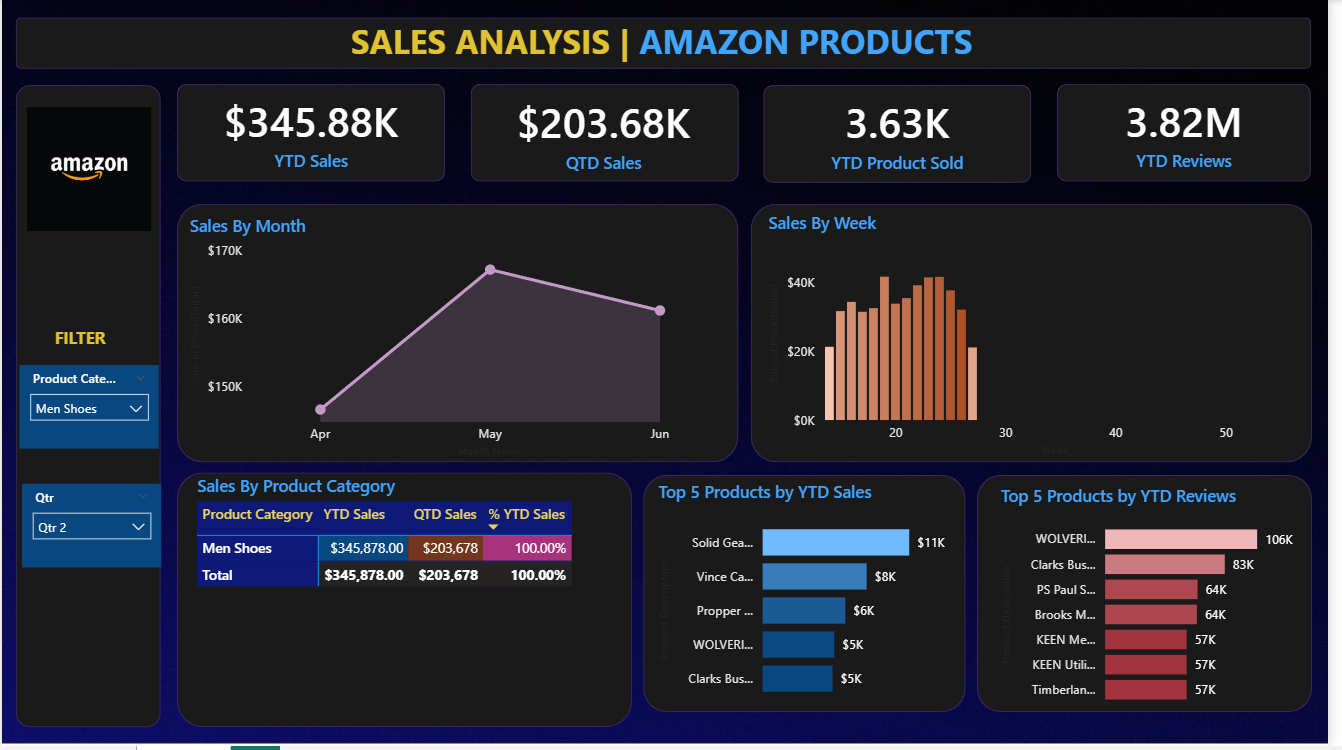

This screenshot's page, from the dashboard's own definition file:
{"tool":"powerbi","page":{"name":"Page 1","canvas":[1280,720],"ordinal":0},"visuals":[{"type":"shape","box":[451.8,81,259.3,94.7],"z":0,"group":"g1"},{"type":"shape","box":[13.7,82.3,140,620.2],"z":0},{"type":"shape","box":[13.7,16.5,1250.1,49.4],"z":1000},{"type":"textbox","box":[332.1,13.7,627.1,52.1],"z":2000},{"type":"shape","box":[168.8,196.2,542,249.7],"z":3000},{"type":"shape","box":[168.8,81,259.3,94.7],"z":4000,"group":"g1"},{"type":"areaChart","title":"Sales By Month","fields":{"Category":["Date Table.Month Name"],"Y":["Sum(Amazon_Data.Price(Dollar))"]},"box":[175.6,205.8,529.7,240.1],"z":4000},{"type":"card","fields":{"Values":["Amazon_Data.YTD Sales"]},"box":[168.8,79.6,259.3,94.7],"z":5000,"group":"g1"},{"type":"shape","box":[723.2,196.2,542,249.7],"z":5000},{"type":"card","fields":{"Values":["Amazon_Data.QTD Sales"]},"box":[451.5,81,259.3,94.7],"z":6000,"group":"g1"},{"type":"columnChart","title":"Sales By Week","fields":{"Category":["Date Table.Week"],"Y":["Sum(Amazon_Data.Price(Dollar))"]},"box":[734.1,204.5,511.8,241.5],"z":6000},{"type":"shape","box":[734.8,82.3,259.3,94.7],"z":7000,"group":"g1"},{"type":"shape","box":[168.8,455.6,439.1,245.6],"z":7000},{"type":"shape","box":[1018.2,81,245.6,94.7],"z":8000,"group":"g1"},{"type":"pivotTable","title":"Sales By Product Category","fields":{"Rows":["Amazon_Data.Product Category"],"Values":["Amazon_Data.YTD Sales1","Amazon_Data.QTD Sales","Amazon_Data.YTD Sales"]},"box":[183.9,456.9,444.6,244.3],"z":8000},{"type":"card","fields":{"Values":["Amazon_Data.YTD Product Sold"]},"box":[734.2,81,259.3,94.7],"z":8001,"group":"g1"},{"type":"card","fields":{"Values":["Amazon_Data.YTD Reviews"]},"box":[1018.2,79.6,245.6,94.7],"z":8002,"group":"g1"},{"type":"group","id":"g1","title":"Group 1","box":[168.8,79.6,1095,97.4],"z":9000},{"type":"shape","box":[618.9,458.3,311.5,229.2],"z":10000},{"type":"shape","box":[941.3,458.3,323.8,229.2],"z":11000},{"type":"barChart","title":"Top 5 Products by YTD Sales","fields":{"Category":["Amazon_Data.Product Description"],"Y":["Amazon_Data.YTD Sales"]},"box":[628.5,463.8,301.9,223.7],"z":12000},{"type":"barChart","title":"Top 5 Products by YTD Reviews","fields":{"Y":["Amazon_Data.YTD Reviews"],"Category":["Amazon_Data.Product Description"]},"box":[959.2,466.6,301.9,223.7],"z":13000},{"type":"slicer","fields":{"Values":["Amazon_Data.Product Category"]},"box":[16.5,352.7,134.5,81],"z":14000},{"type":"slicer","fields":{"Values":["Date Table.Qtr"]},"box":[19.2,466.6,134.5,81],"z":14001},{"type":"image","box":[16.5,97.4,134.5,130.4],"z":14002},{"type":"textbox","box":[45.3,310.1,75.5,32.9],"z":14003}]}

Visuals, with their boxes in screenshot pixels (x1, y1, x2, y2), scaled from the page's 1280x720 canvas onto the 1342x750 screenshot:
shape: pyautogui.locateOnScreen(474, 84, 746, 183)
shape: pyautogui.locateOnScreen(14, 86, 161, 732)
shape: pyautogui.locateOnScreen(14, 17, 1325, 69)
textbox: pyautogui.locateOnScreen(348, 14, 1006, 69)
shape: pyautogui.locateOnScreen(177, 204, 745, 464)
shape: pyautogui.locateOnScreen(177, 84, 449, 183)
"Sales By Month" areaChart: pyautogui.locateOnScreen(184, 214, 739, 464)
card - Amazon_Data.YTD Sales: pyautogui.locateOnScreen(177, 83, 449, 182)
shape: pyautogui.locateOnScreen(758, 204, 1326, 464)
card - Amazon_Data.QTD Sales: pyautogui.locateOnScreen(473, 84, 745, 183)
"Sales By Week" columnChart: pyautogui.locateOnScreen(770, 213, 1306, 465)
shape: pyautogui.locateOnScreen(770, 86, 1042, 184)
shape: pyautogui.locateOnScreen(177, 475, 637, 730)
shape: pyautogui.locateOnScreen(1068, 84, 1325, 183)
"Sales By Product Category" pivotTable: pyautogui.locateOnScreen(193, 476, 659, 730)
card - Amazon_Data.YTD Product Sold: pyautogui.locateOnScreen(770, 84, 1042, 183)
card - Amazon_Data.YTD Reviews: pyautogui.locateOnScreen(1068, 83, 1325, 182)
"Group 1" group: pyautogui.locateOnScreen(177, 83, 1325, 184)
shape: pyautogui.locateOnScreen(649, 477, 975, 716)
shape: pyautogui.locateOnScreen(987, 477, 1326, 716)
"Top 5 Products by YTD Sales" barChart: pyautogui.locateOnScreen(659, 483, 975, 716)
"Top 5 Products by YTD Reviews" barChart: pyautogui.locateOnScreen(1006, 486, 1322, 719)
slicer - Amazon_Data.Product Category: pyautogui.locateOnScreen(17, 367, 158, 452)
slicer - Date Table.Qtr: pyautogui.locateOnScreen(20, 486, 161, 570)
image: pyautogui.locateOnScreen(17, 101, 158, 237)
textbox: pyautogui.locateOnScreen(47, 323, 127, 357)
